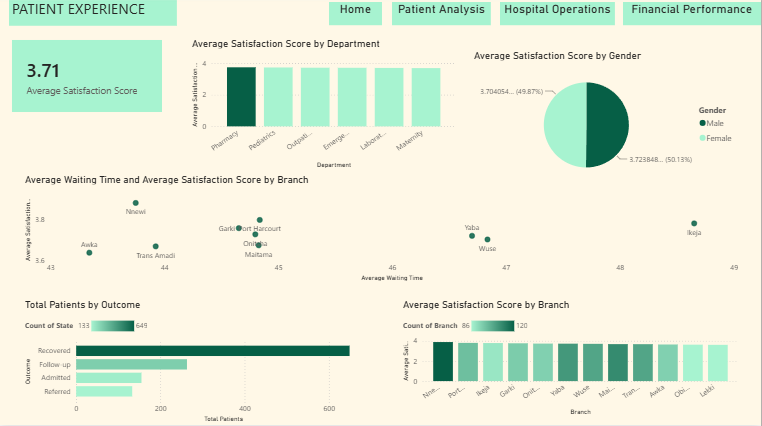

The page's visual inventory and layout, read from the dashboard file:
{"tool":"powerbi","page":{"name":"Patient Experience","canvas":[1280,720],"ordinal":4},"visuals":[{"type":"textbox","box":[16.8,0,282.2,50.4],"z":0},{"type":"cardVisual","fields":{"Data":["Date_Table.Average Satisfaction"]},"box":[16.8,68.9,262,131],"z":1000},{"type":"clusteredColumnChart","fields":{"Category":["Patient_Visits.Department"],"Y":["Date_Table.Average Satisfaction Score"]},"box":[319.2,68.9,453.5,225.1],"z":2000},{"type":"pieChart","fields":{"Category":["Patient_Visits.Gender"],"Y":["Date_Table.Average Satisfaction Score"]},"box":[792.9,89,453.5,225.1],"z":3000},{"type":"scatterChart","fields":{"Category":["Patient_Visits.Branch"],"X":["Date_Table.Average Waiting Time"],"Y":["Date_Table.Average Satisfaction Score"]},"box":[38.6,297.3,1207.8,186.5],"z":4000},{"type":"barChart","fields":{"Category":["Patient_Visits.Outcome"],"Y":["Date_Table.Total Patients"]},"box":[38.6,507.3,601.4,213.3],"z":5000},{"type":"clusteredColumnChart","fields":{"Category":["Patient_Visits.Branch"],"Y":["Date_Table.Average Satisfaction Score"]},"box":[673.6,507.3,572.8,201.6],"z":6000},{"type":"actionButton","title":"Patient Analysis","box":[660.2,10.1,166.3,40.3],"z":6001},{"type":"actionButton","title":"Home","box":[554.3,10.1,89,40.3],"z":6002},{"type":"actionButton","title":"Hospital Operations","box":[841.6,10.1,193.2,40.3],"z":6003},{"type":"actionButton","title":"Financial Performance","box":[1048.2,10.1,231.8,40.3],"z":6004}]}

Visuals, with their boxes in screenshot pixels (x1, y1, x2, y2), scaled from the page's 1280x720 canvas onto the 762x426 screenshot:
textbox: <bbox>10, 0, 178, 30</bbox>
cardVisual - Date_Table.Average Satisfaction: <bbox>10, 41, 166, 118</bbox>
clusteredColumnChart - Patient_Visits.Department x Date_Table.Average Satisfaction Score: <bbox>190, 41, 460, 174</bbox>
pieChart - Patient_Visits.Gender x Date_Table.Average Satisfaction Score: <bbox>472, 53, 742, 186</bbox>
scatterChart - Patient_Visits.Branch x Date_Table.Average Waiting Time: <bbox>23, 176, 742, 286</bbox>
barChart - Patient_Visits.Outcome x Date_Table.Total Patients: <bbox>23, 300, 381, 425</bbox>
clusteredColumnChart - Patient_Visits.Branch x Date_Table.Average Satisfaction Score: <bbox>401, 300, 742, 419</bbox>
"Patient Analysis" actionButton: <bbox>393, 6, 492, 30</bbox>
"Home" actionButton: <bbox>330, 6, 383, 30</bbox>
"Hospital Operations" actionButton: <bbox>501, 6, 616, 30</bbox>
"Financial Performance" actionButton: <bbox>624, 6, 761, 30</bbox>
